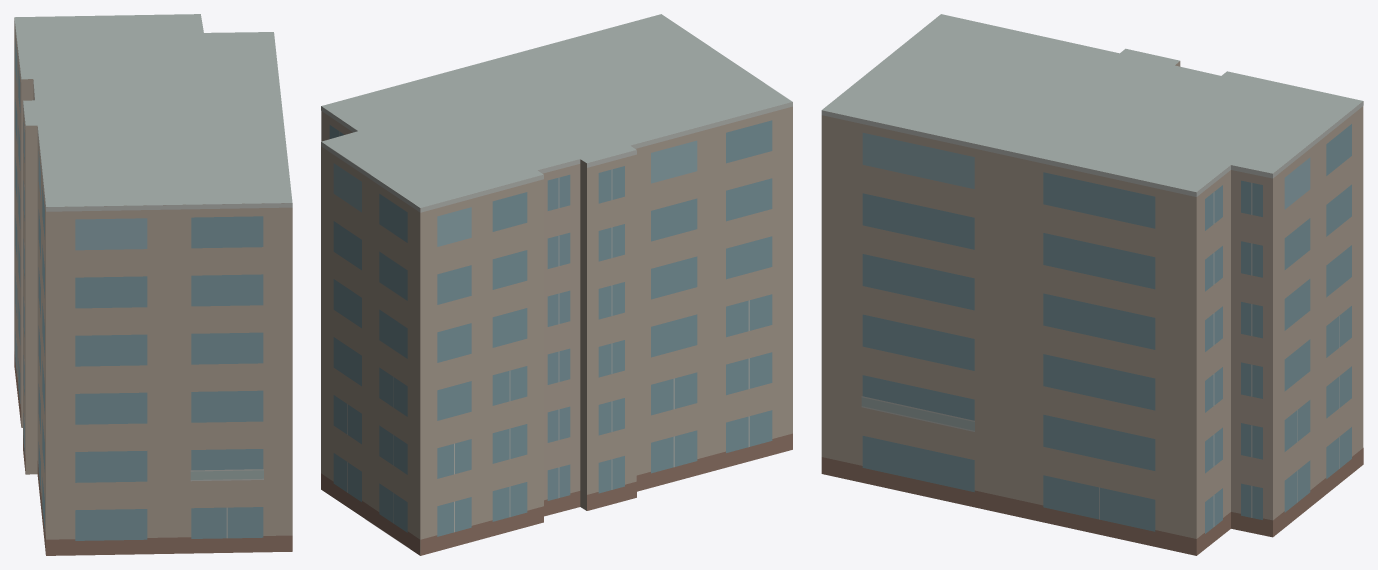
Rendered from survey-upis-32670892.glb.
3 renders of one model, left to right at view 1: azimuth 30°, elevation 25°; view 2: azimuth 150°, elevation 25°; view 3: azimuth 270°, elevation 25°, orthographic. The views are drawn at different scales.
Parts seen in each view (by area): view 1: survey-upis-32670892.tmp; view 2: survey-upis-32670892.tmp; view 3: survey-upis-32670892.tmp.
Part boxes in pixels (x1,y1,x2,y2): survey-upis-32670892.tmp: (14,14,292,555); survey-upis-32670892.tmp: (321,14,792,555); survey-upis-32670892.tmp: (821,14,1363,555).
Size of the model in its own units: 19.25 by 18.3 by 24.73.
